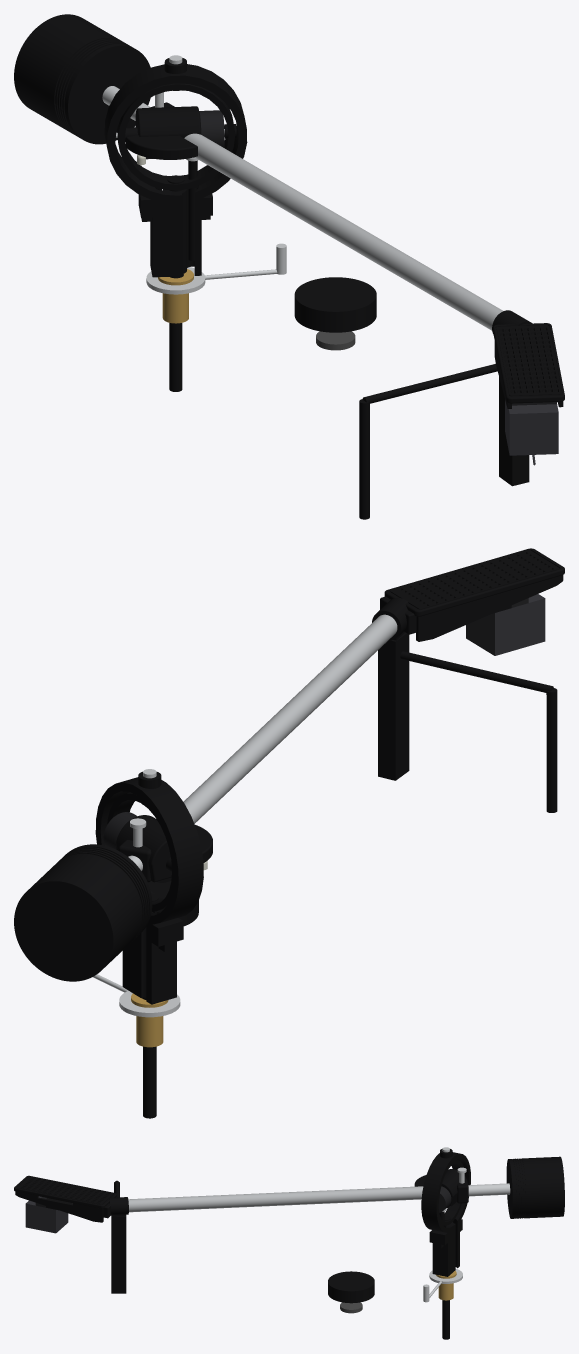
The model's file is arm.glb.
3 renders of one model, top to bottom at view 1: azimuth 30°, elevation 25°; view 2: azimuth 150°, elevation 25°; view 3: azimuth 270°, elevation 25°, orthographic. The views are drawn at different scales.
Visible parts, largest first — view 1: arm.74.counterweight, arm.60.outer_ring_stud, arm.73.tube, arm.41.head, arm.79.antiskate_knob, arm.54.inner_ring, arm.73.bearing_body, ctx.cartridge_generic, arm.52.rest_bar_and_pin50, arm.70.mode_lever, arm.66.rest_post, arm.69.bushing (+2 smaller); view 2: arm.74.counterweight, arm.60.outer_ring_stud, arm.41.head, arm.73.tube, arm.66.rest_post, ctx.cartridge_generic, arm.52.rest_bar_and_pin50, arm.73.bearing_body, arm.69.bushing, arm.54.inner_ring, arm.70.mode_lever, arm.73.head_socket_support; view 3: arm.73.tube, arm.60.outer_ring_stud, arm.74.counterweight, arm.41.head, arm.79.antiskate_knob, arm.66.rest_post, ctx.cartridge_generic, arm.73.bearing_body, arm.75.cw_stud, arm.70.mode_lever, arm.54.inner_ring, arm.73.head_socket_support (+1 smaller).
Boxes of the visible parts, x1=… form: arm.74.counterweight: x1=14, y1=14, x2=150, y2=144; arm.60.outer_ring_stud: x1=104, y1=58, x2=247, y2=391; arm.73.tube: x1=184, y1=133, x2=503, y2=330; arm.41.head: x1=493, y1=323, x2=564, y2=408; arm.79.antiskate_knob: x1=294, y1=277, x2=376, y2=332; arm.54.inner_ring: x1=116, y1=83, x2=236, y2=260; arm.73.bearing_body: x1=125, y1=102, x2=200, y2=159; ctx.cartridge_generic: x1=505, y1=400, x2=558, y2=465; arm.52.rest_bar_and_pin50: x1=359, y1=364, x2=497, y2=519; arm.70.mode_lever: x1=146, y1=243, x2=286, y2=294; arm.66.rest_post: x1=499, y1=377, x2=529, y2=486; arm.69.bushing: x1=158, y1=269, x2=193, y2=323; arm.74.counterweight: x1=14, y1=844, x2=152, y2=981; arm.60.outer_ring_stud: x1=95, y1=771, x2=203, y2=1118; arm.41.head: x1=380, y1=548, x2=564, y2=641; arm.73.tube: x1=183, y1=614, x2=397, y2=823; arm.66.rest_post: x1=378, y1=632, x2=409, y2=780; ctx.cartridge_generic: x1=466, y1=594, x2=545, y2=655; arm.52.rest_bar_and_pin50: x1=400, y1=651, x2=557, y2=812; arm.73.bearing_body: x1=116, y1=815, x2=212, y2=882; arm.69.bushing: x1=131, y1=993, x2=168, y2=1047; arm.54.inner_ring: x1=107, y1=792, x2=173, y2=913; arm.70.mode_lever: x1=93, y1=974, x2=180, y2=1017; arm.73.head_socket_support: x1=372, y1=597, x2=408, y2=640; arm.73.tube: x1=128, y1=1186, x2=423, y2=1212; arm.60.outer_ring_stud: x1=421, y1=1148, x2=470, y2=1339; arm.74.counterweight: x1=506, y1=1156, x2=564, y2=1218; arm.41.head: x1=14, y1=1175, x2=119, y2=1222; arm.79.antiskate_knob: x1=328, y1=1271, x2=374, y2=1303; arm.66.rest_post: x1=111, y1=1215, x2=126, y2=1293; ctx.cartridge_generic: x1=25, y1=1196, x2=68, y2=1233; arm.73.bearing_body: x1=414, y1=1169, x2=468, y2=1208; arm.75.cw_stud: x1=468, y1=1183, x2=510, y2=1196; arm.70.mode_lever: x1=423, y1=1269, x2=462, y2=1302; arm.54.inner_ring: x1=439, y1=1159, x2=465, y2=1226; arm.73.head_socket_support: x1=109, y1=1197, x2=128, y2=1216.
Size of the model in its own units: 0.0761 by 0.1114 by 0.2938.
